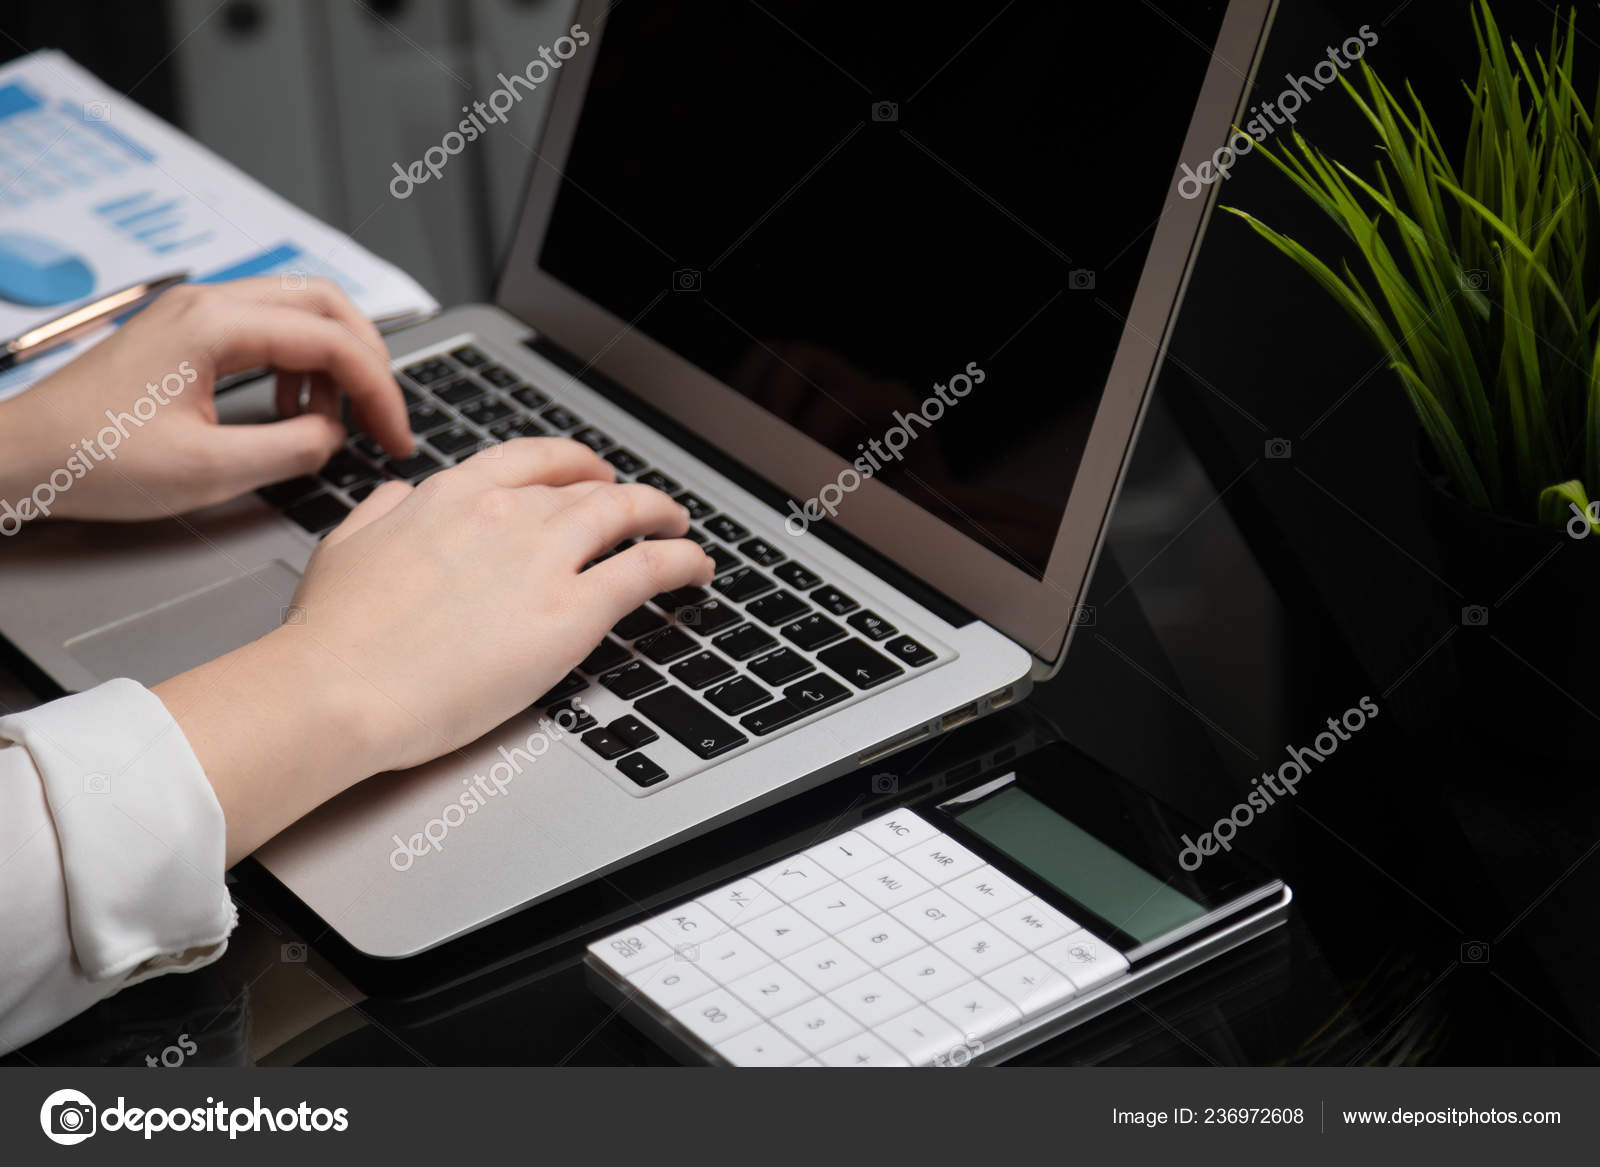Calculator: (568, 733, 1316, 1070)
